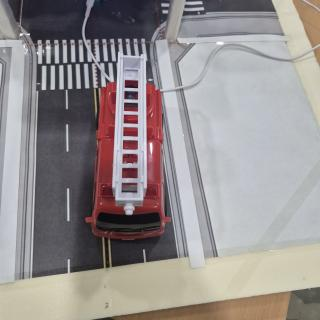Fire_truck: (85, 54, 171, 239)
